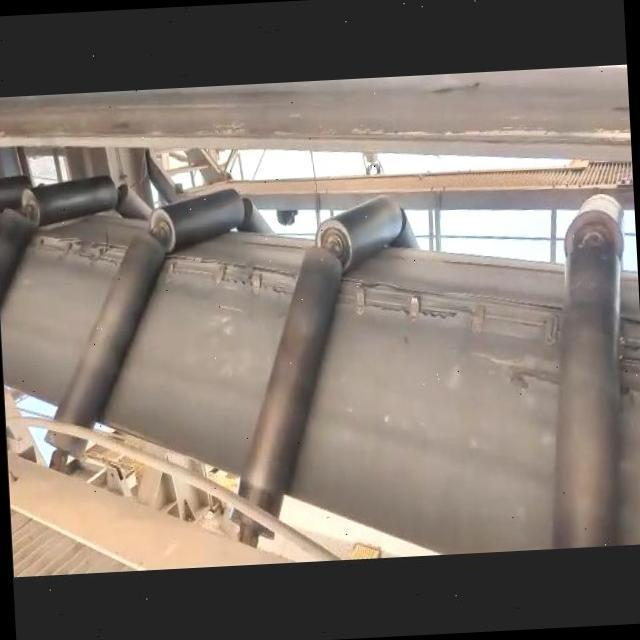Tear: (340, 272, 562, 353), (164, 244, 304, 304), (25, 227, 130, 276)
Wear: (471, 345, 564, 397)
